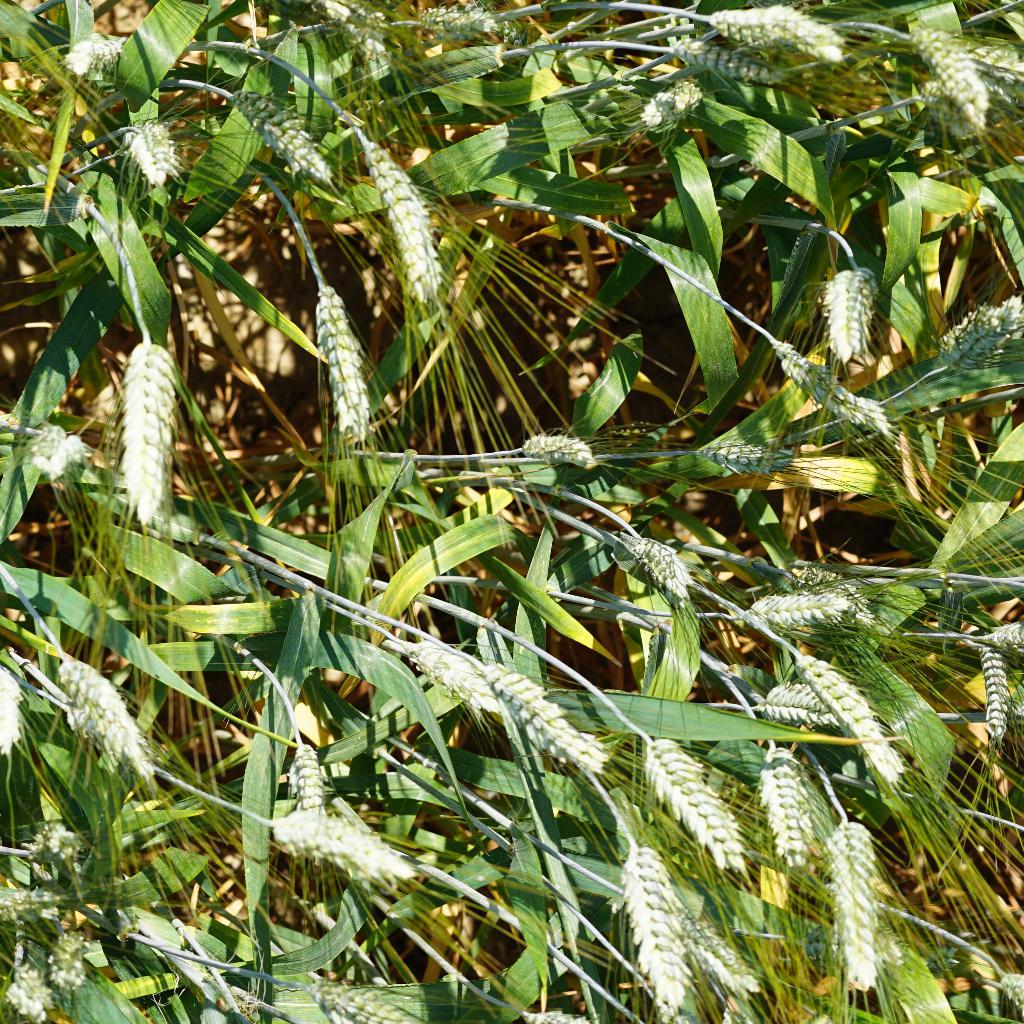0-0: (616, 718, 750, 870), (348, 116, 458, 298), (785, 645, 914, 785), (49, 641, 165, 793), (811, 796, 890, 1001), (291, 272, 381, 445), (473, 665, 612, 774), (609, 833, 690, 1019), (119, 328, 190, 529), (265, 802, 410, 896), (766, 337, 894, 443), (232, 81, 340, 193), (686, 0, 854, 67), (389, 628, 503, 724), (897, 23, 993, 137), (755, 724, 823, 879), (804, 240, 882, 363), (273, 970, 433, 1024), (650, 32, 796, 90), (923, 296, 1024, 377), (681, 425, 814, 486), (679, 909, 768, 996), (739, 583, 866, 636), (619, 67, 718, 133), (273, 736, 346, 817), (623, 523, 694, 606), (421, 0, 515, 62), (507, 418, 606, 475), (12, 408, 88, 482), (0, 875, 88, 937), (63, 21, 144, 85), (968, 641, 1015, 746), (739, 675, 843, 717), (45, 923, 103, 998), (0, 952, 55, 1023), (126, 114, 176, 190), (0, 661, 36, 759), (22, 814, 82, 869)
